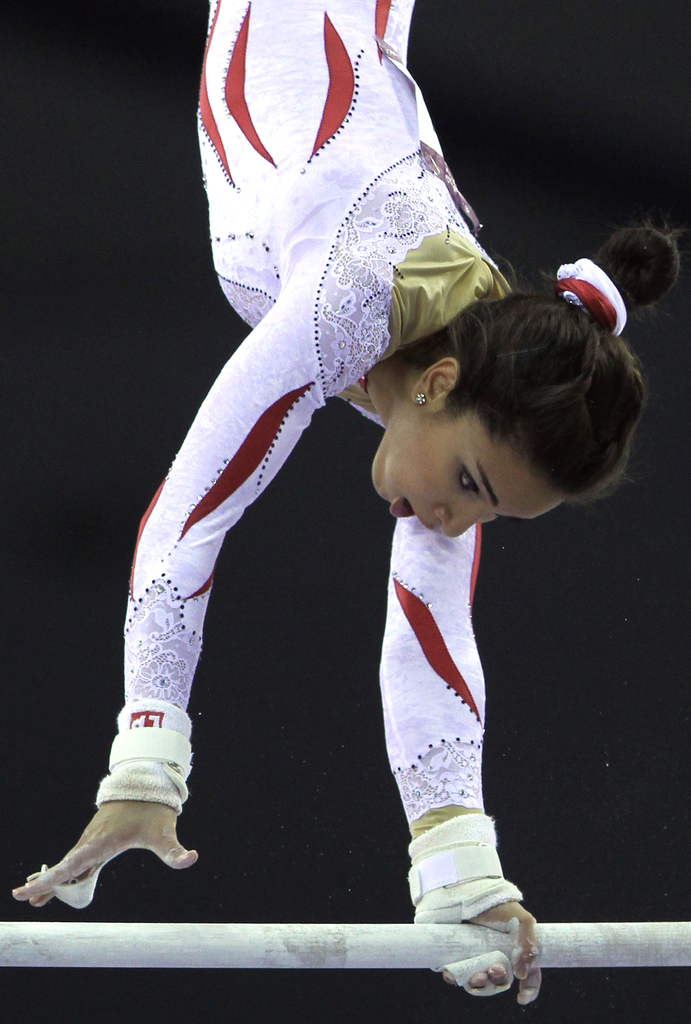Person: (12, 0, 689, 1005)
